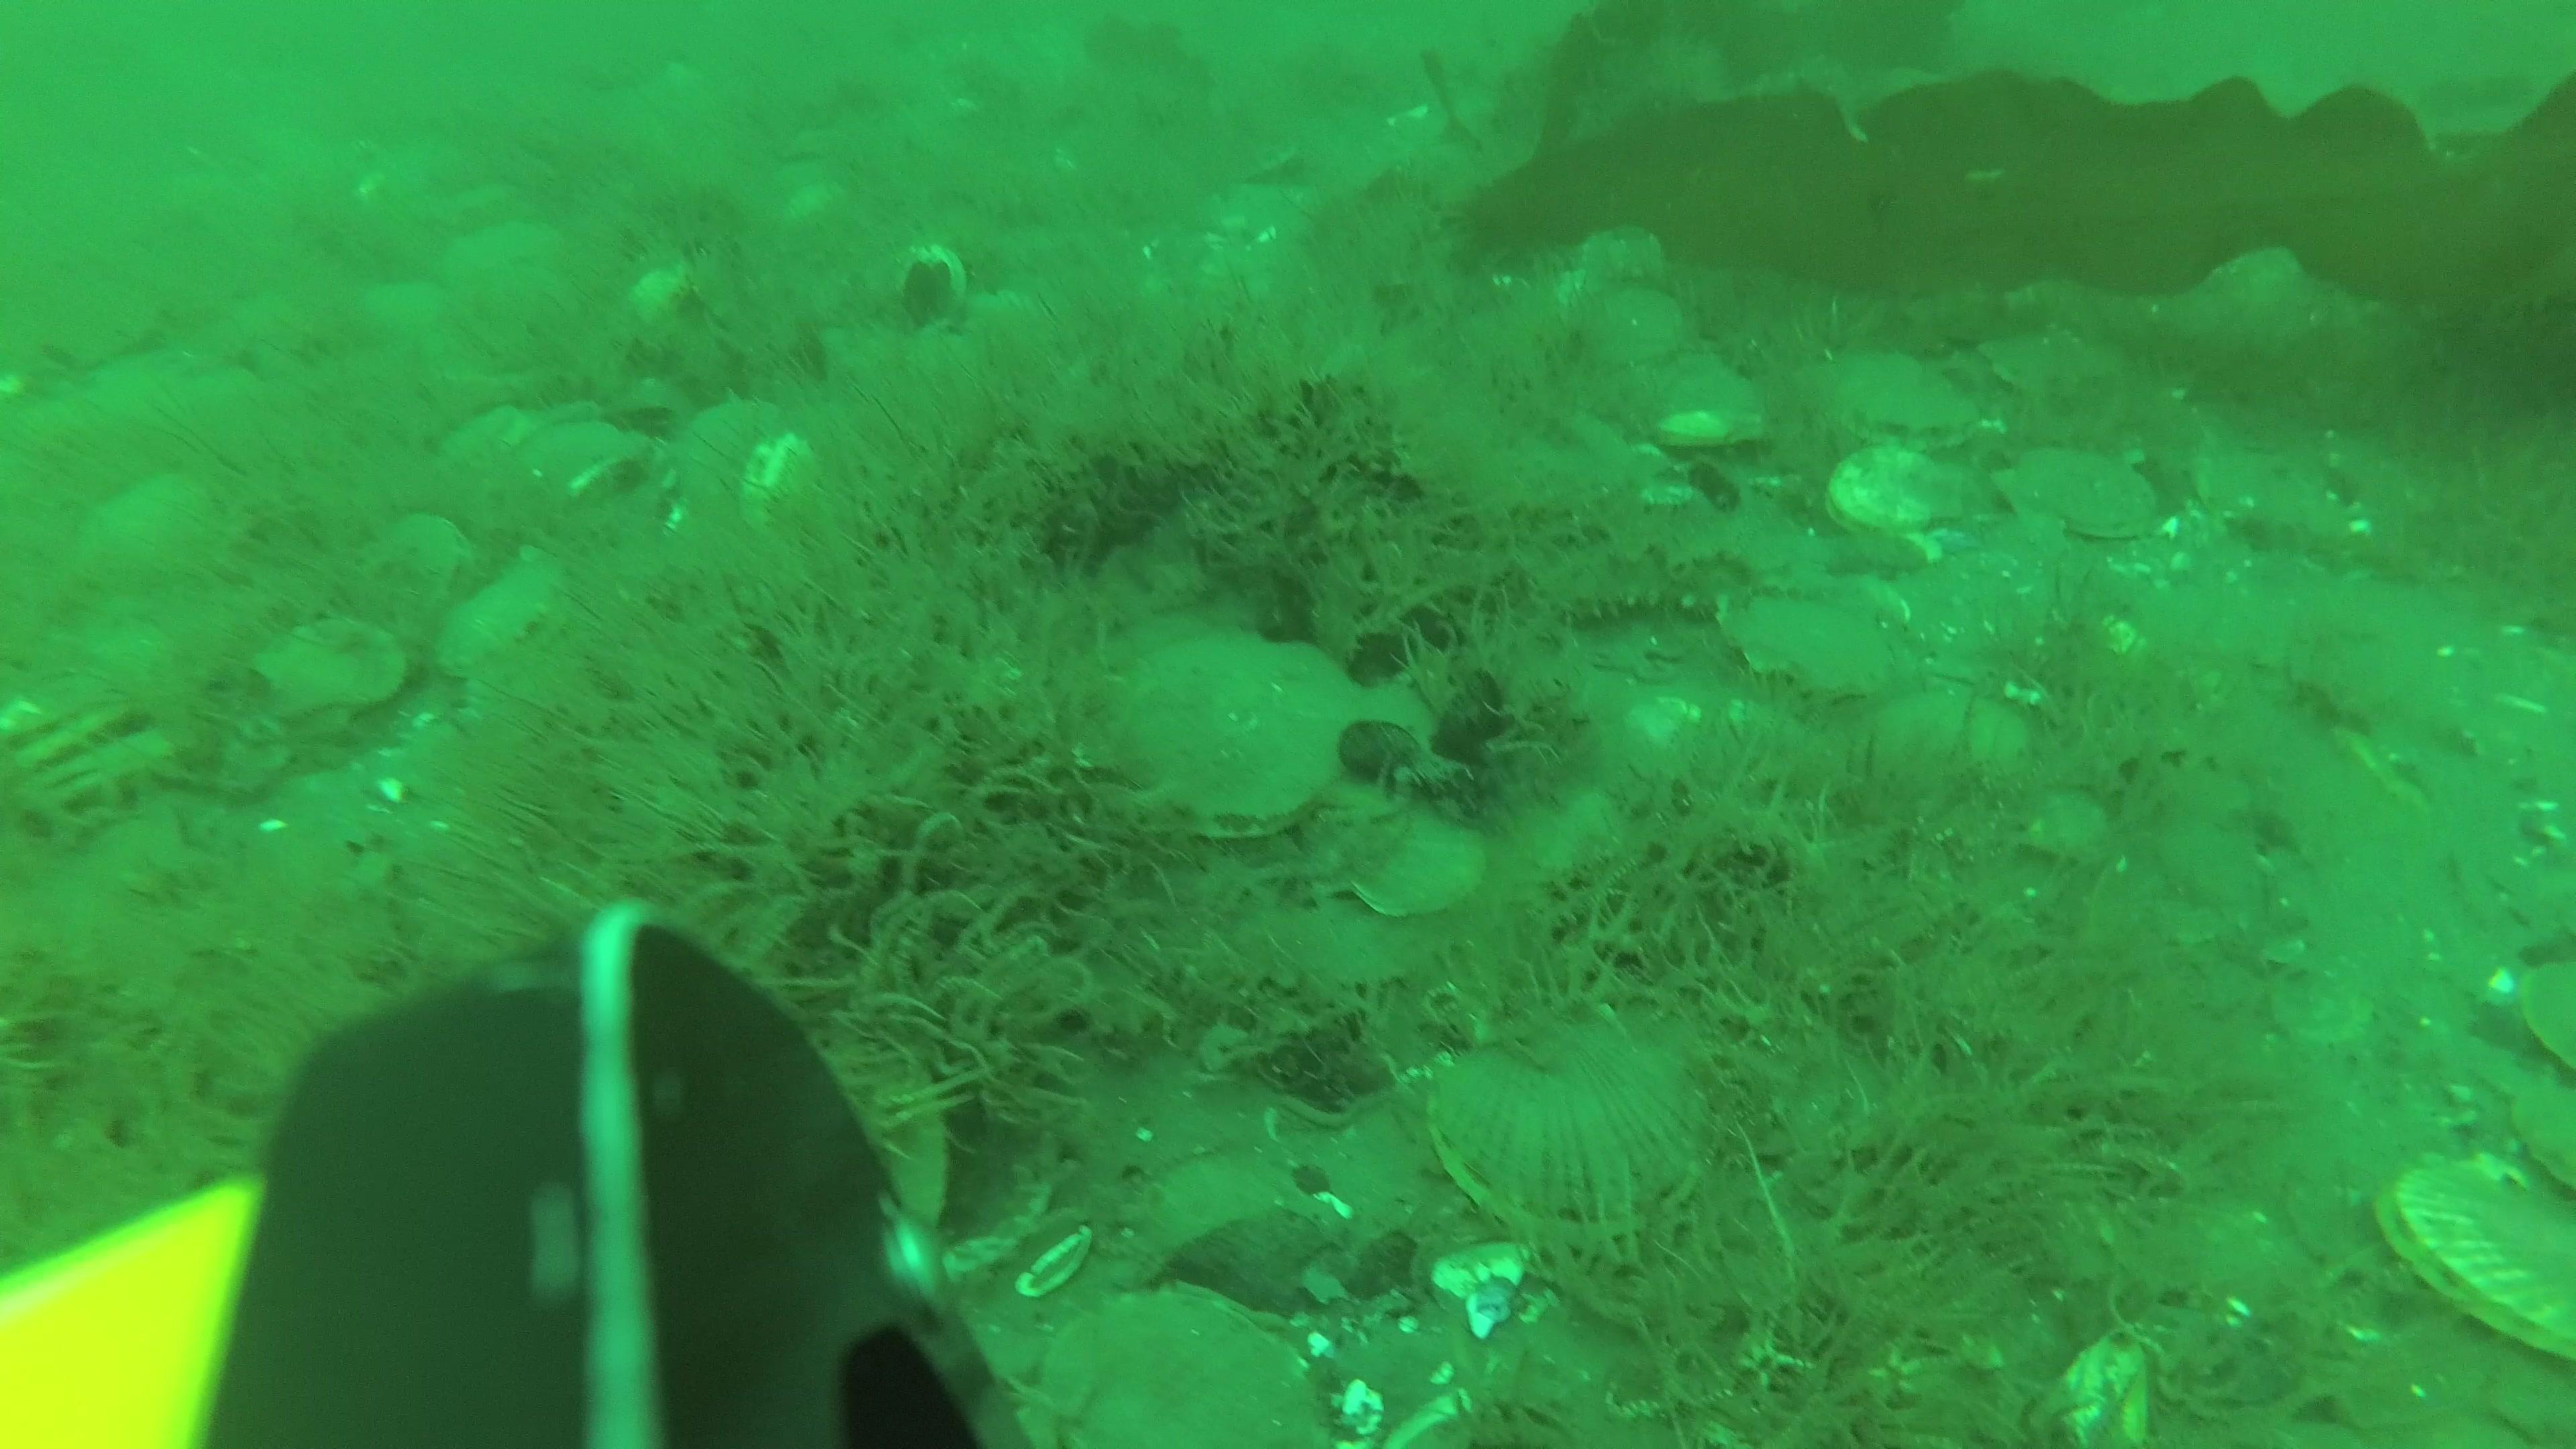holothurian: (1537, 547, 1744, 640)
scallop: (1104, 619, 1394, 849), (1442, 1016, 1707, 1223), (1037, 1293, 1334, 1449), (2387, 1150, 2576, 1368), (1146, 1152, 1350, 1322), (1292, 1109, 1484, 1283), (1304, 669, 1445, 826), (1242, 890, 1421, 1010), (2295, 593, 2429, 724), (1741, 593, 1898, 701), (1345, 801, 1484, 922), (2001, 441, 2158, 541), (262, 609, 405, 718), (39, 729, 173, 837), (1826, 350, 1974, 442), (448, 564, 563, 678), (87, 487, 214, 586), (1829, 442, 1959, 540), (368, 517, 469, 619), (1592, 281, 1691, 366), (16, 708, 131, 770), (1587, 223, 1675, 288), (2, 679, 97, 736)
